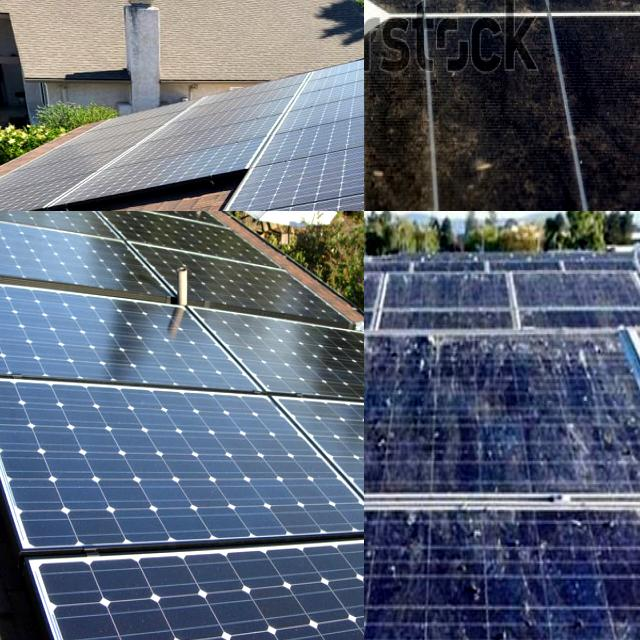bird: (485, 617, 527, 640), (364, 562, 377, 630), (364, 556, 383, 601), (463, 578, 488, 606), (364, 612, 386, 640), (364, 565, 384, 583)
crack: (0, 356, 364, 551), (0, 267, 267, 414), (16, 546, 364, 640), (193, 305, 364, 416), (0, 211, 184, 303), (89, 211, 270, 268)
dust: (368, 23, 483, 211), (374, 0, 532, 96), (510, 22, 584, 211), (525, 0, 640, 95), (366, 0, 639, 37), (364, 18, 408, 211), (364, 0, 438, 102), (602, 28, 640, 211), (364, 23, 398, 211), (364, 0, 429, 98), (364, 22, 386, 211), (364, 0, 453, 32)
